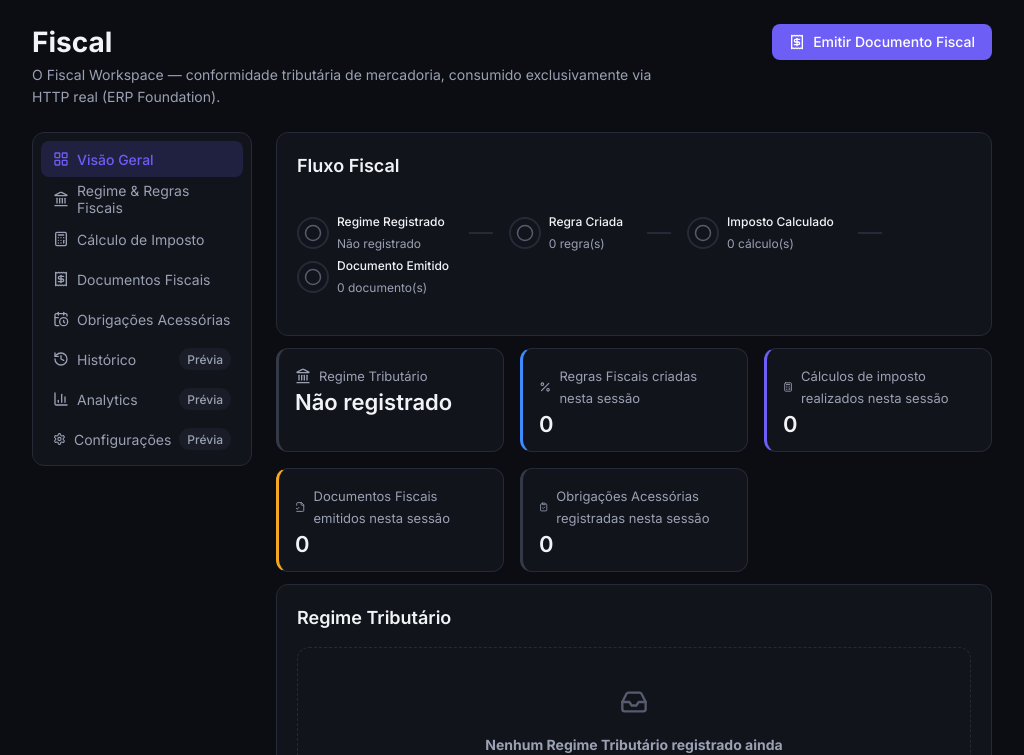
it: FiscalPage — Fiscal Workspace por seções (IMP-605) › registra um Regime Tributário real — reflete imediatamente na Visão Geral (mesmo cache do useTaxRegime)
The width and height of the screenshot is (1024, 755).
Expected: the button "Visão Geral" is shown, [41,141,243,177]
Click the button "Regime & Regras Fiscais". click: (142, 199)
box: [41,181,243,217]
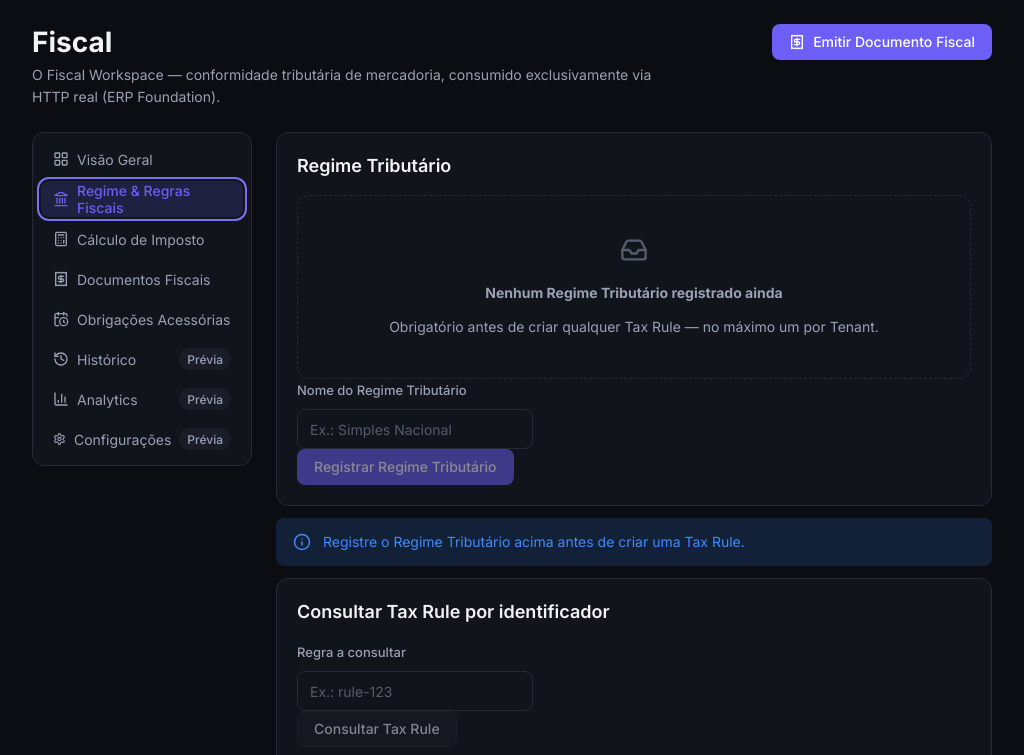
Type "Simples Nacional" into the field labelled "Nome do Regime Tributário". click: (415, 429)
box: [297,409,533,449]
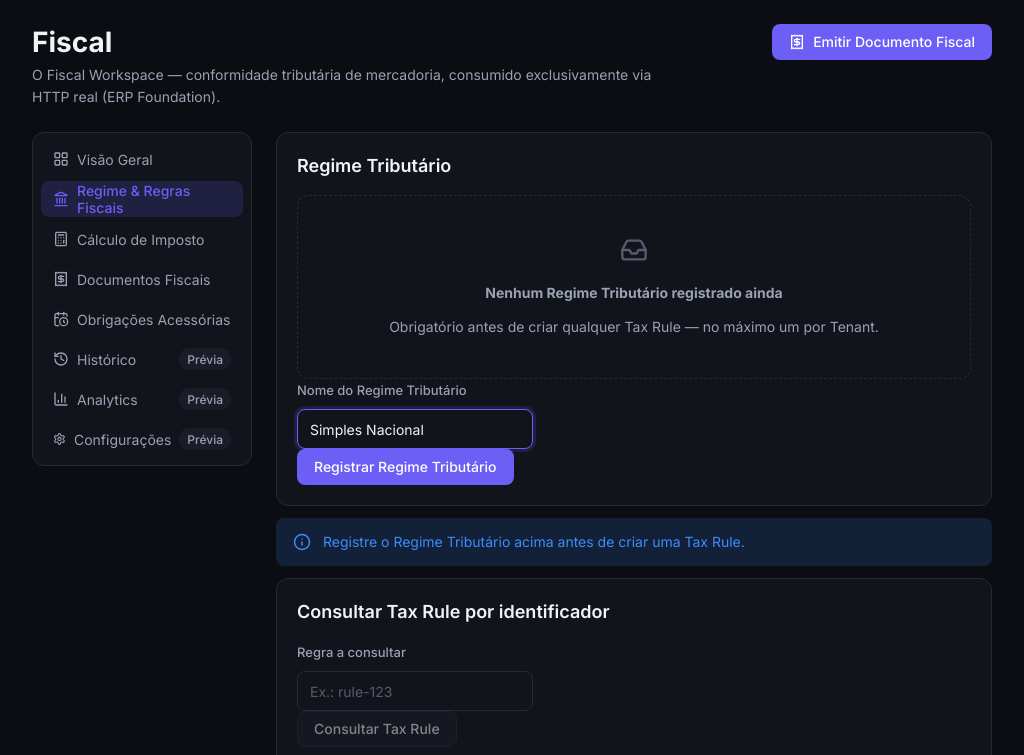
Click the button "Registrar Regime Tributário". click: (405, 467)
box: [297,449,514,485]
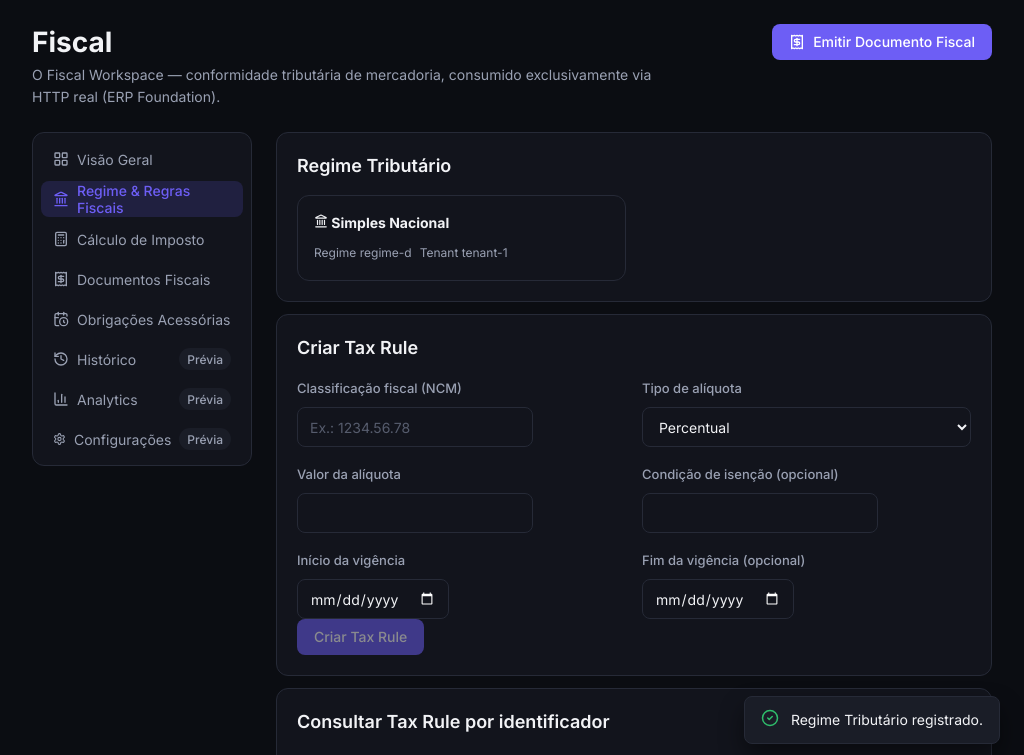
Expected: the text "Simples Nacional" is shown, [314,212,449,234]
Click the button "Visão Geral". click: (142, 159)
box: [41,141,243,177]
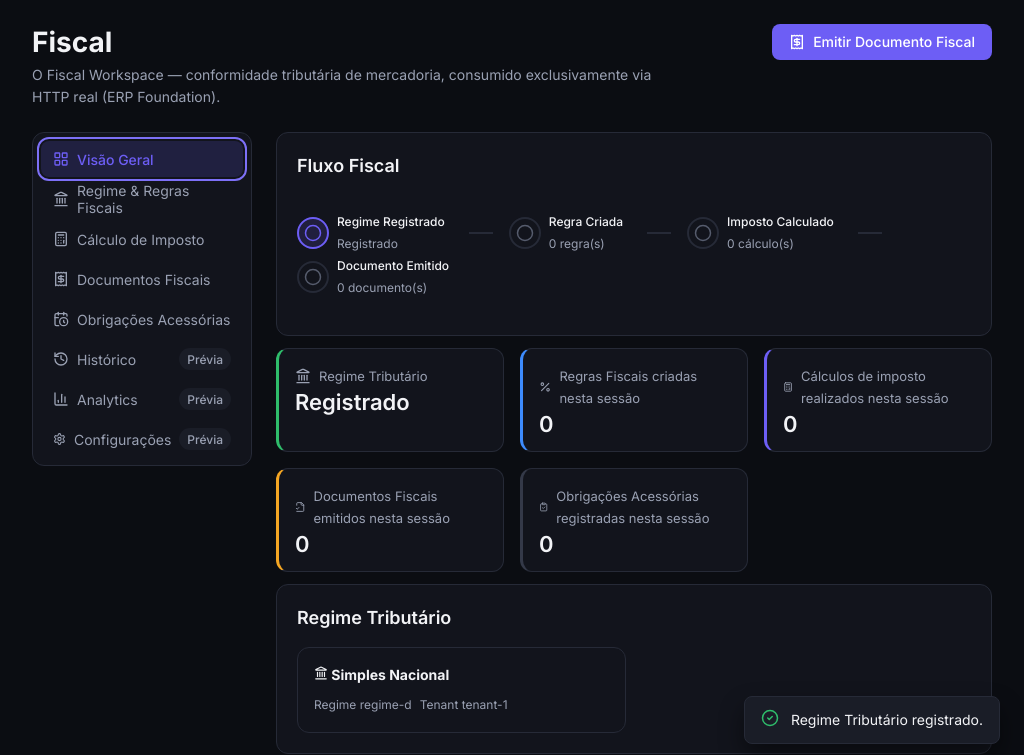
Expected: the text "Simples Nacional" is shown, [314,664,449,686]
Expected: the text "Registrado" below "Regime Registrado" is shown, [337,236,398,251]
